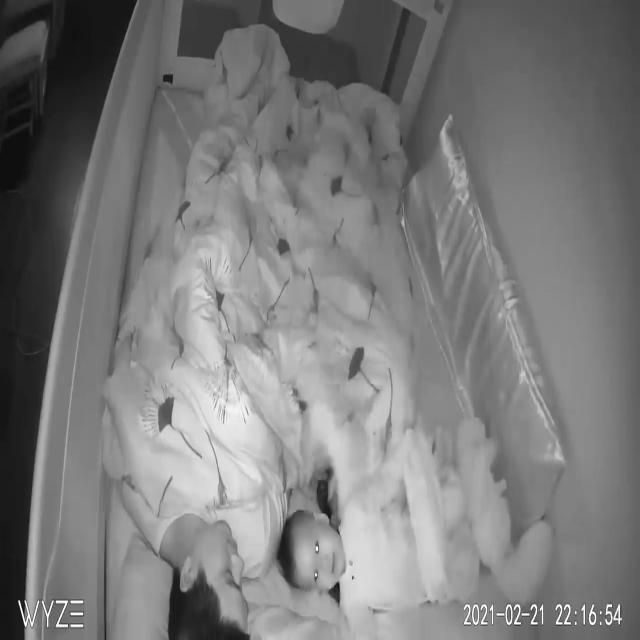baby: (281, 448, 430, 640)
